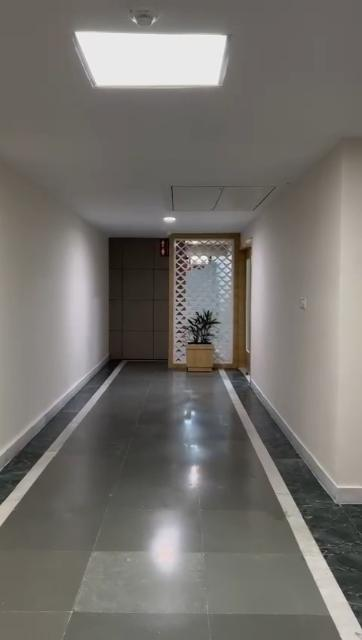door: (240, 248, 250, 368)
floor: (0, 361, 362, 640)
object: (184, 310, 218, 374)
wall: (252, 139, 362, 479), (0, 162, 111, 466)
